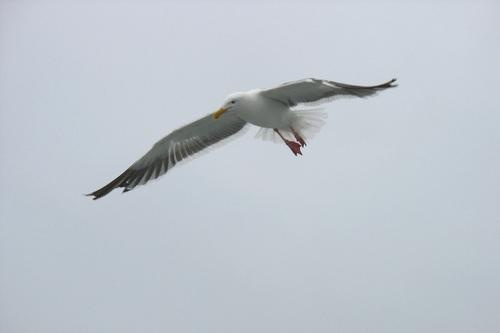bird: (92, 72, 400, 201)
